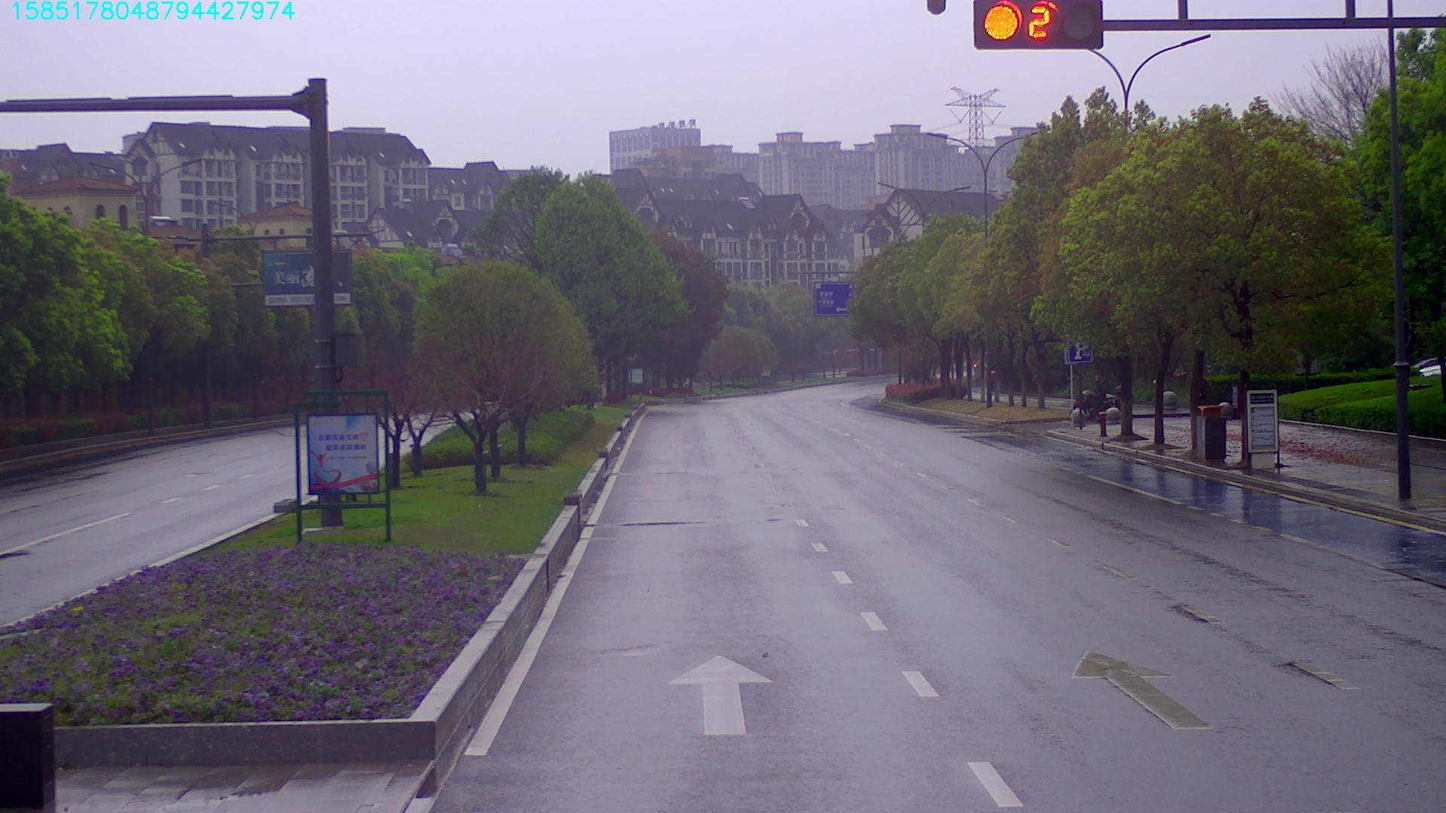red: (968, 7, 1092, 49)
